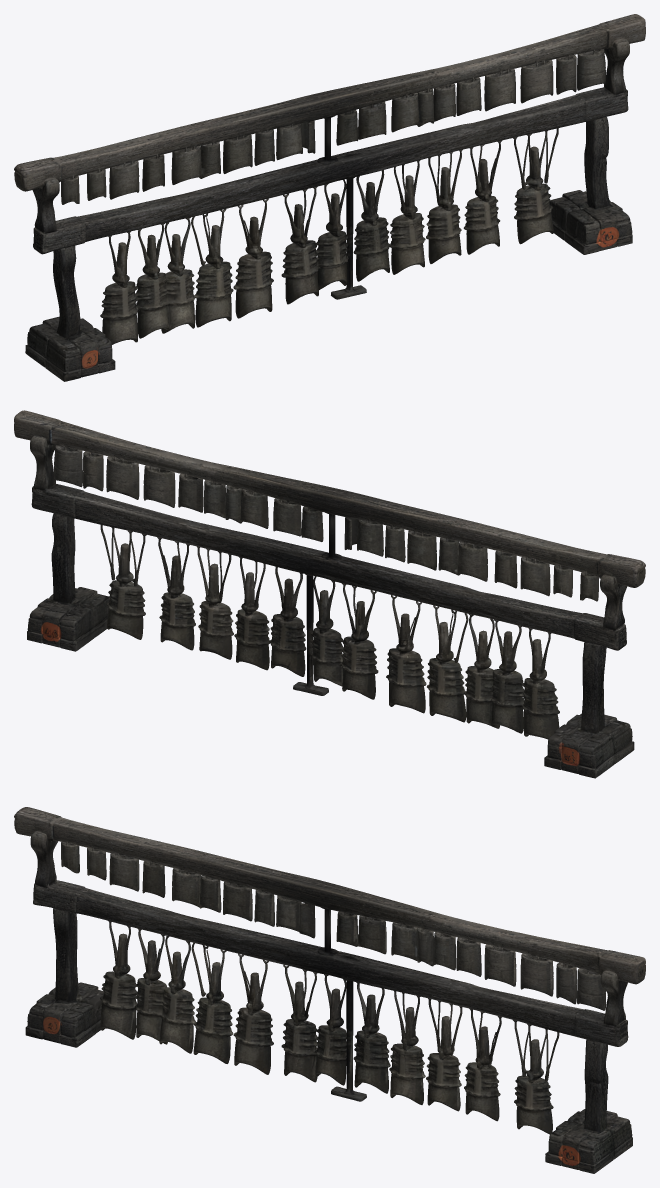
3 renders of one model, top to bottom at view 1: azimuth 30°, elevation 25°; view 2: azimuth 150°, elevation 25°; view 3: azimuth 330°, elevation 25°, orthographic.
Parts seen in each view (by area): view 1: node_0; view 2: node_0; view 3: node_0.
Boxes of the visible parts, x1,y1,x2,y2 form: node_0: (14, 14, 645, 381); node_0: (14, 410, 645, 778); node_0: (14, 807, 645, 1173).
Bounding box in the file's own units: 1.15 × 0.3623 × 0.1254.
1 material, 1 textured.
